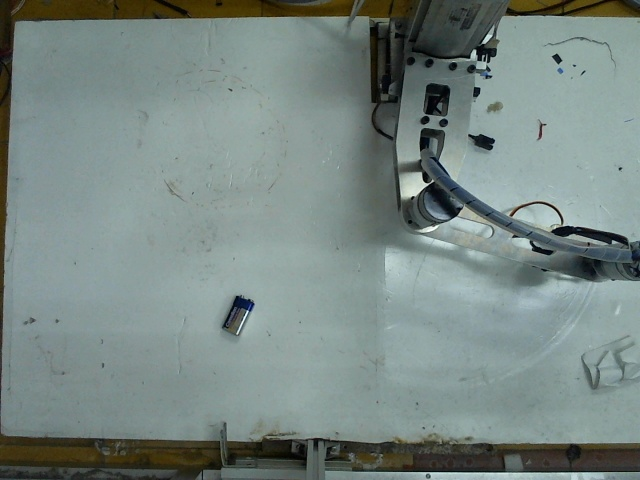battery: (222, 292, 253, 335)
